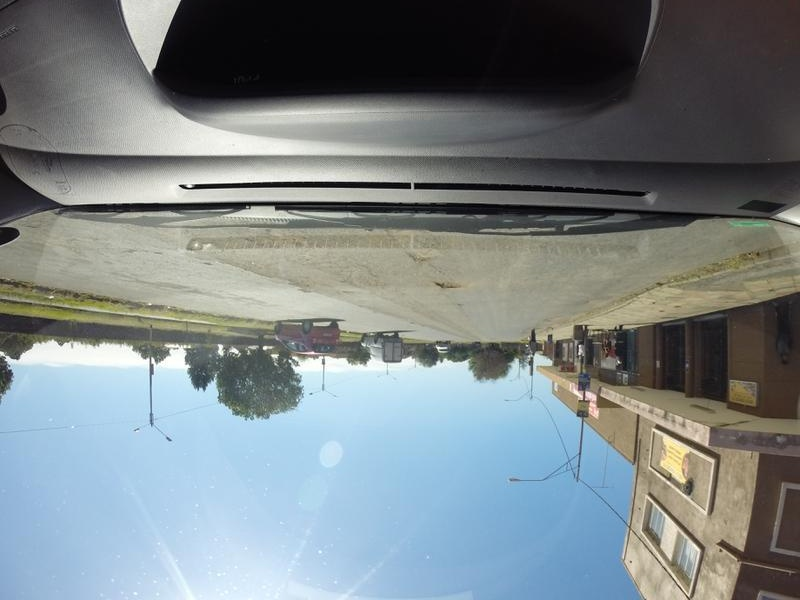pothole: (403, 248, 471, 268), (432, 277, 474, 294)
